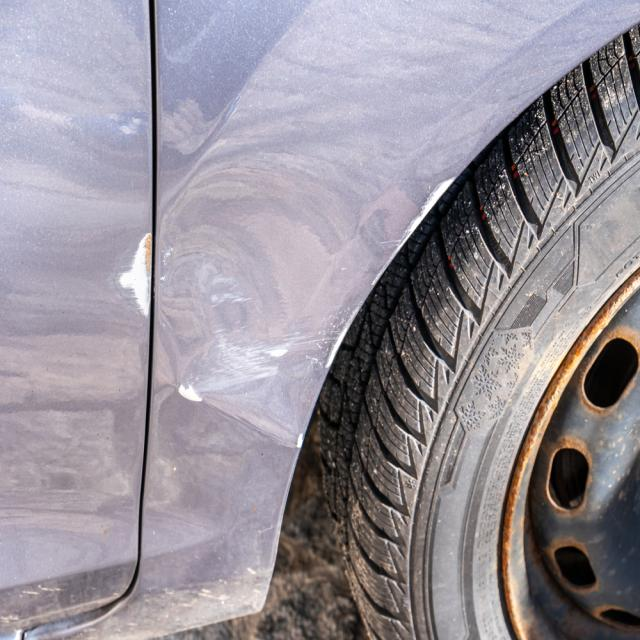dent: (156, 85, 458, 439)
scratch: (109, 233, 154, 318)
